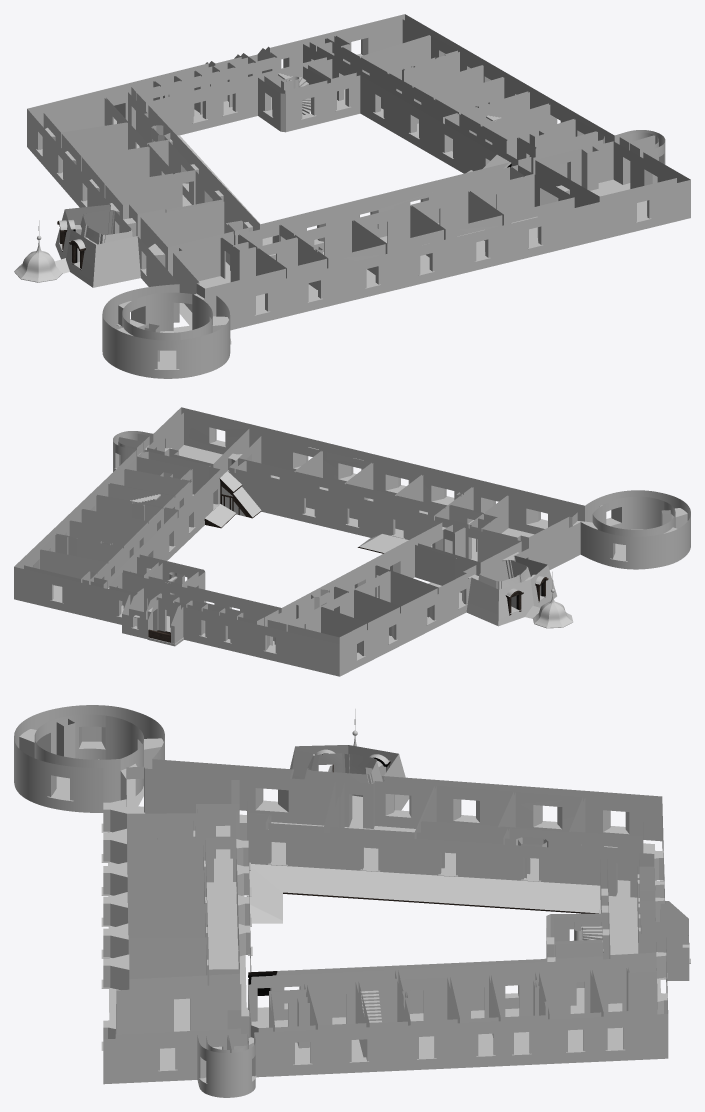
Rendered from 3_STAVS_2.fbx.
3 renders of one model, top to bottom at view 1: azimuth 30°, elevation 25°; view 2: azimuth 150°, elevation 25°; view 3: azimuth 270°, elevation 25°, orthographic. The views are drawn at different scales.
Visible parts, largest first — view 1: 3_STAVS_2, 3_STAVS, 3_JUMTI, 3_GRIDA, 3_METAL, 3_TORNJI; view 2: 3_STAVS_2, 3_STAVS, 3_JUMTI, 3_GRIDA, 3_KOKS, 3_TORNJI, 3_METAL; view 3: 3_STAVS_2, 3_STAVS, 3_JUMTI, 3_GRIDA, 3_METAL, 3_KOKS, 3_KAPNES.
Boxes of the visible parts, x1,y1,x2,y2 form: 3_STAVS_2: (27,63,690,378); 3_STAVS: (38,14,690,244); 3_JUMTI: (54,135,511,287); 3_GRIDA: (137,89,646,361); 3_METAL: (36,53,651,370); 3_TORNJI: (14,220,62,282); 3_STAVS_2: (181,407,690,676); 3_STAVS: (14,407,363,658); 3_JUMTI: (205,470,556,626); 3_GRIDA: (53,445,642,652); 3_KOKS: (148,478,548,642); 3_TORNJI: (532,572,573,628); 3_METAL: (50,440,627,660); 3_STAVS_2: (14,705,665,983); 3_STAVS: (103,810,689,1097); 3_JUMTI: (248,745,600,1003); 3_GRIDA: (56,759,665,1066); 3_METAL: (47,749,690,1083); 3_KOKS: (248,753,598,995); 3_KAPNES: (360,926,603,1023).
Size of the model in its own units: 59881 by 5462 by 49232.
